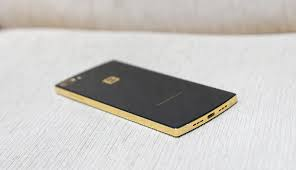bphone: (48, 54, 241, 143)
